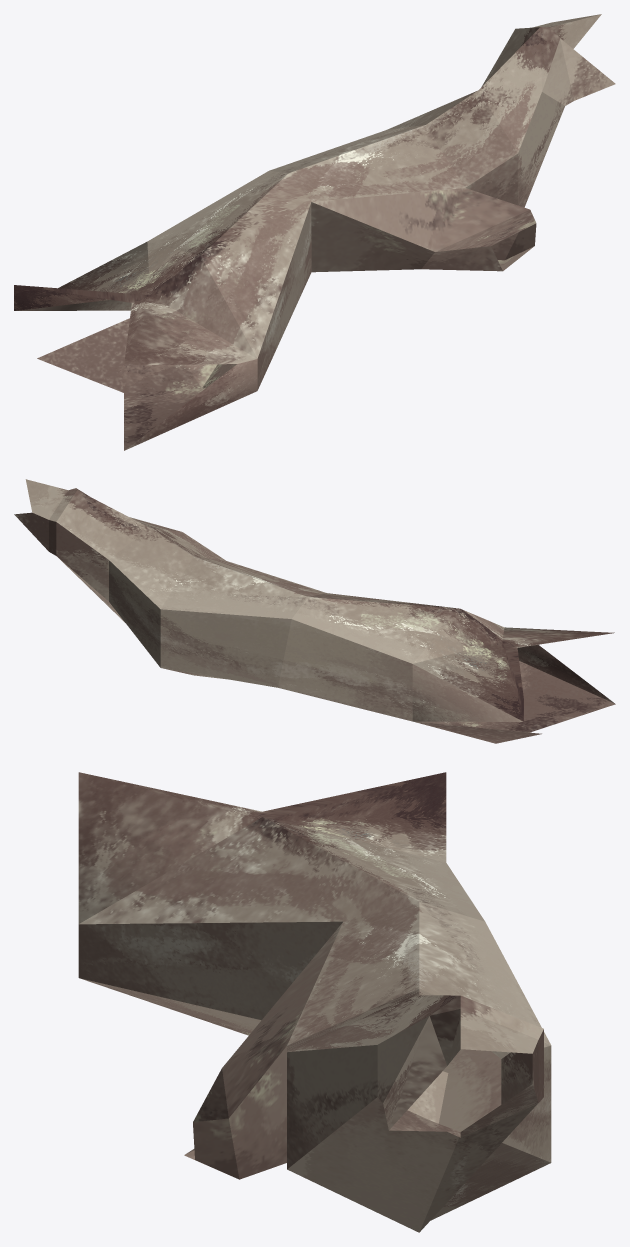
File: branch.FBX
The picture shows the model from 3 angles, top to bottom: view 1: azimuth 30°, elevation 25°; view 2: azimuth 150°, elevation 25°; view 3: azimuth 270°, elevation 25°; orthographic projection. The views are drawn at different scales.
Parts seen in each view (by area): view 1: Box001; view 2: Box001; view 3: Box001.
Part boxes in pixels (x1=…): Box001: x1=14, y1=14, x2=615, y2=450; Box001: x1=14, y1=479, x2=615, y2=743; Box001: x1=78, y1=772, x2=551, y2=1232.
Size of the model in its own units: 61.26 by 22.03 by 25.36.
